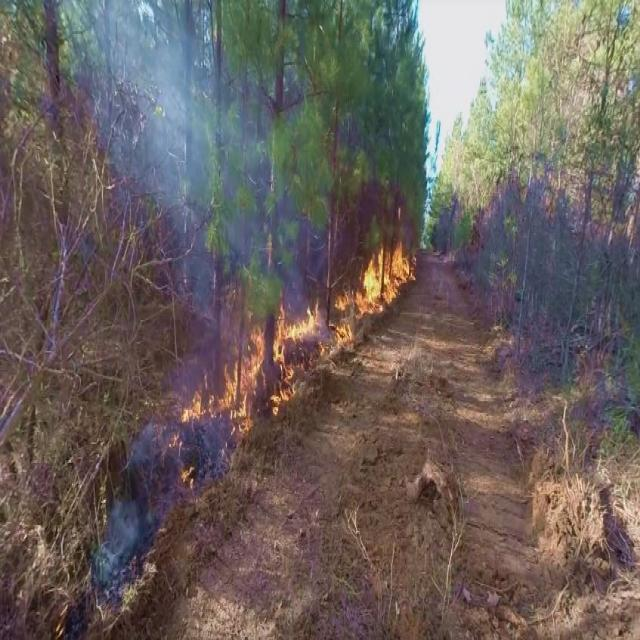Fire: (350, 251, 400, 318), (262, 311, 316, 351), (218, 359, 252, 418)
